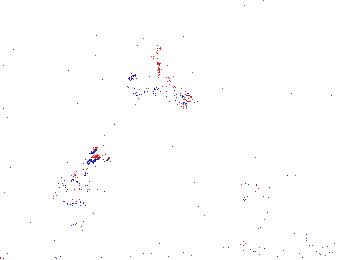flame jellyfish: (52, 147, 111, 215), (122, 55, 192, 108), (241, 161, 312, 204)
